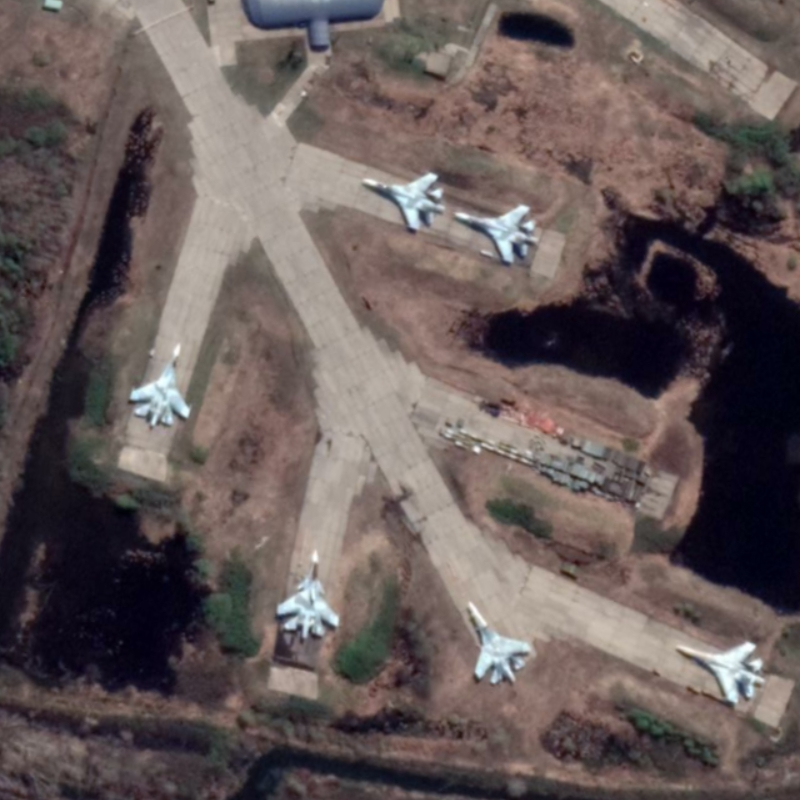A1: (672, 639, 768, 708), (463, 597, 534, 689), (125, 339, 193, 433), (357, 168, 449, 235), (450, 202, 541, 266)
A19: (274, 546, 342, 640)
